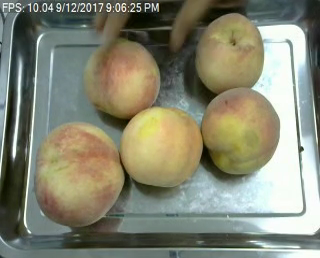Peach: (35, 119, 125, 229), (200, 86, 280, 174), (121, 106, 203, 187), (84, 37, 160, 118), (196, 13, 265, 95)
